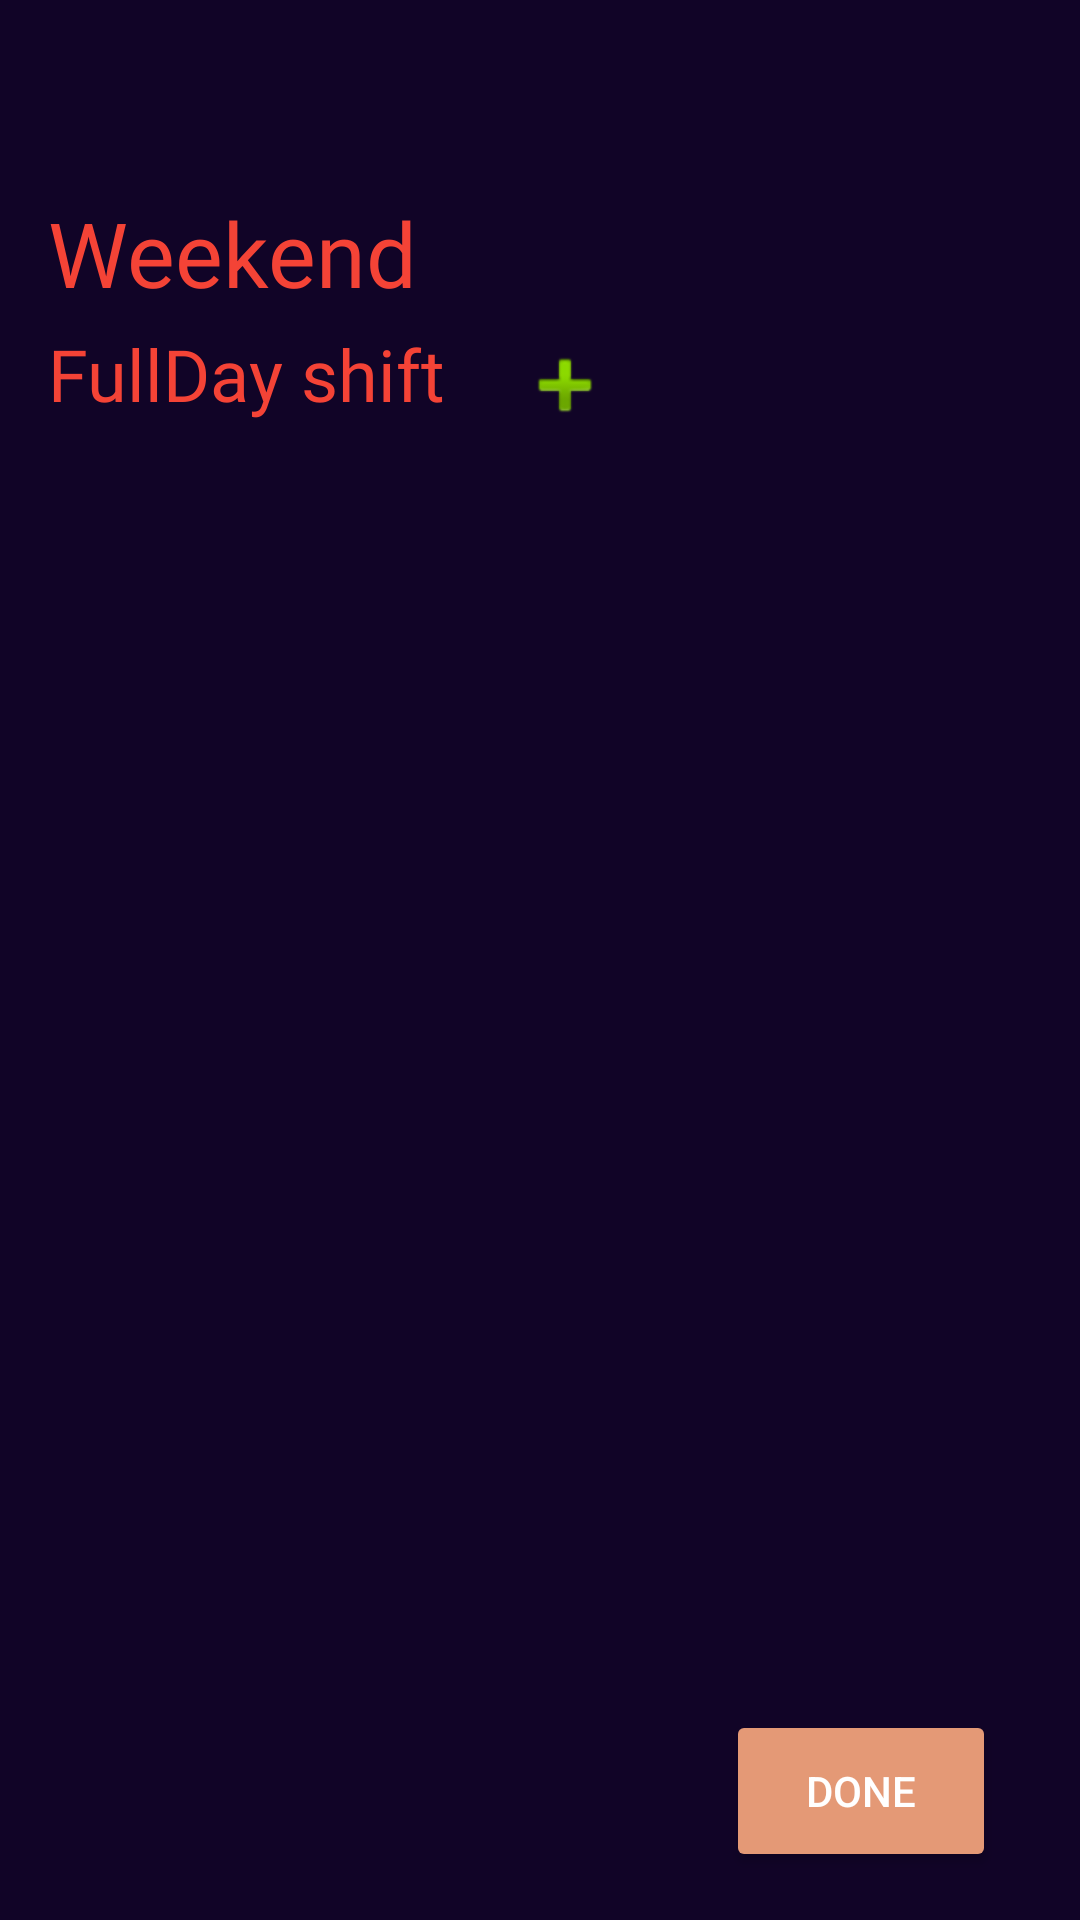

Icons on this 1080×1920 Android screen, each with its box as (x1, y1, x2, y2):
add: (538, 358, 592, 412)
